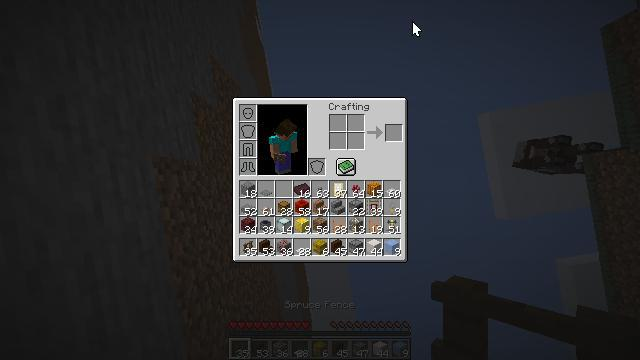cursor: (412, 21, 422, 37)
